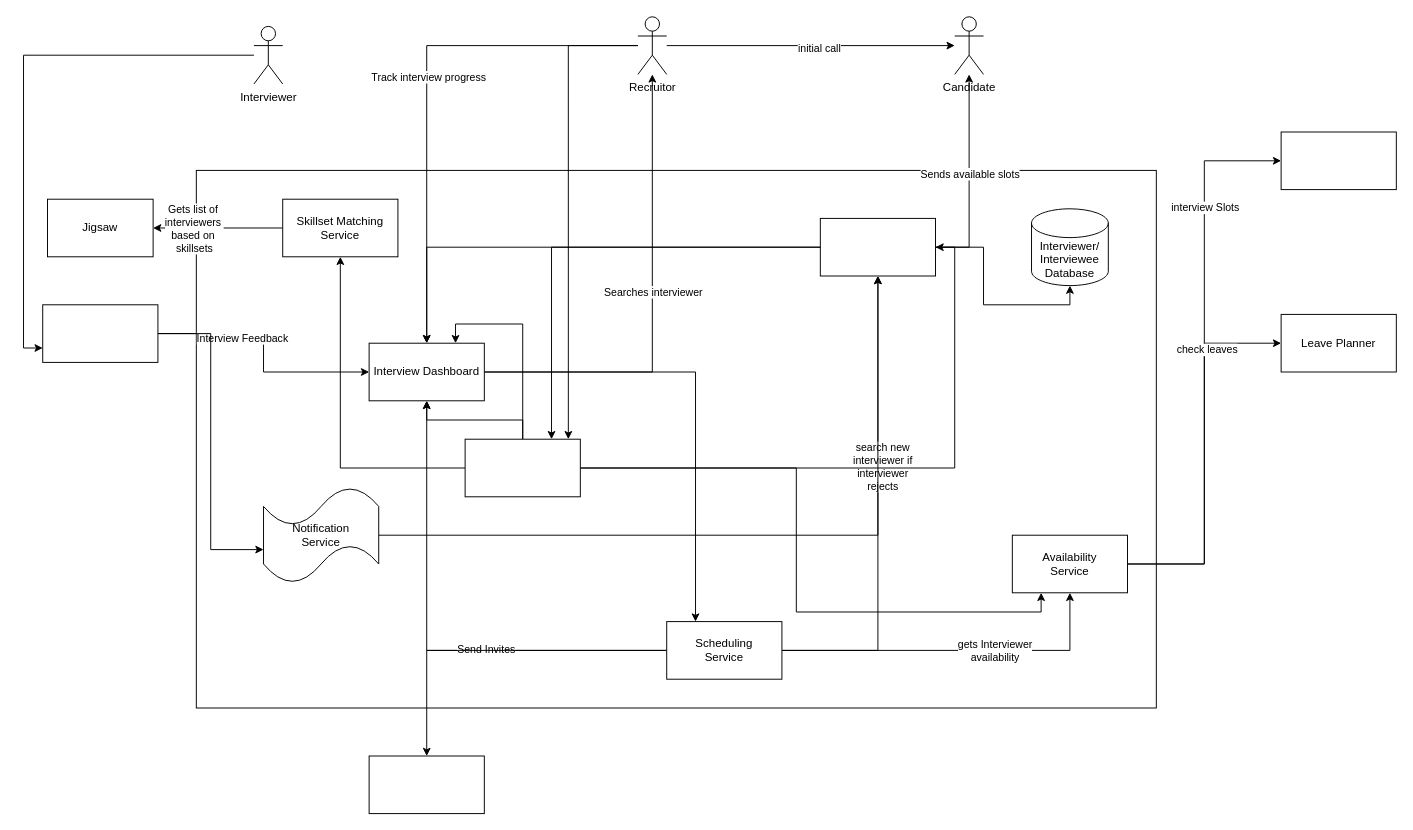
This 1413x830 diagram has some shape labels left out. The centre of each missing label's shape, as x and y in pixels:
"Chatbot" belongs at pixel 522 467.
"GoodTime" belongs at pixel 1338 160.
"Greenhouse" belongs at pixel 100 333.
"Interviewer Selector" belongs at pixel 877 246.
"Zoom" belongs at pixel 426 784.
